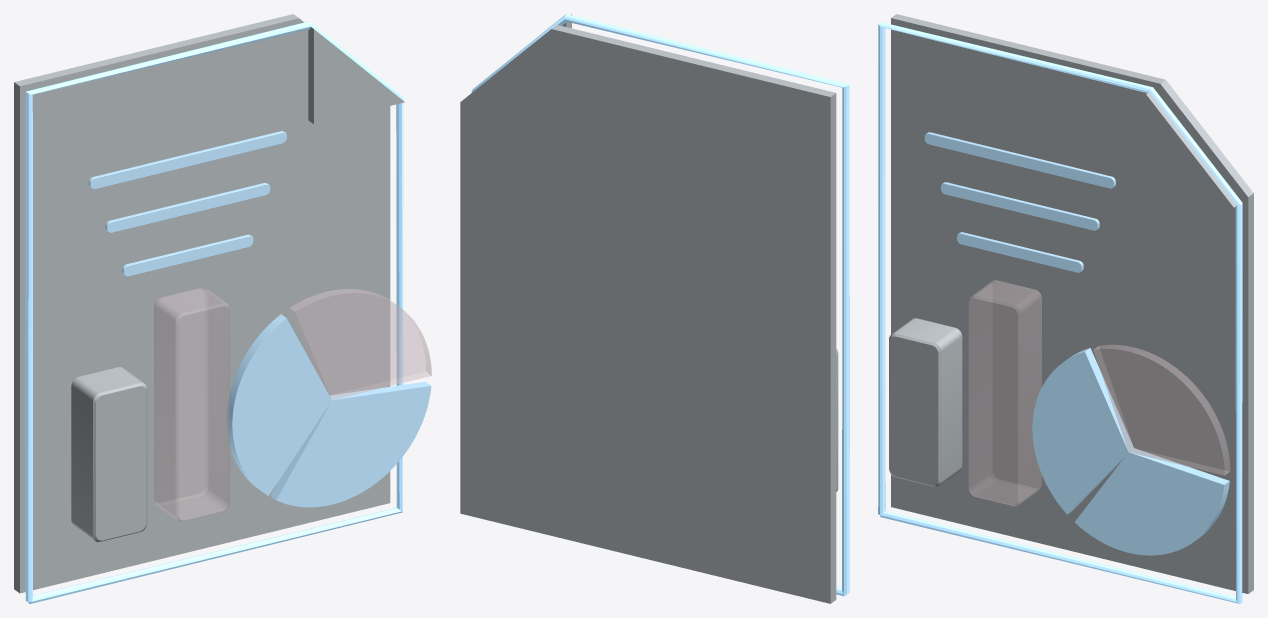
Rendered from 15-report.glb.
3 views of the same model, side by side, from view 1: azimuth 30°, elevation 25°; view 2: azimuth 150°, elevation 25°; view 3: azimuth 330°, elevation 25° (orthographic). The views are drawn at different scales.
Parts seen in each view (by area): view 1: BC thin clear technical glass, BC etched pale glass, BC subtle ruby technical glass, BC cool glass edge; view 2: BC thin clear technical glass, BC cool glass edge; view 3: BC thin clear technical glass, BC etched pale glass, BC subtle ruby technical glass, BC cool glass edge.
Boxes of the visible parts, x1,y1,x2,y2 form: BC thin clear technical glass: [14, 14, 404, 593]; BC etched pale glass: [88, 131, 431, 507]; BC subtle ruby technical glass: [154, 287, 431, 521]; BC cool glass edge: [25, 21, 403, 603]; BC thin clear technical glass: [460, 14, 838, 603]; BC cool glass edge: [471, 14, 849, 596]; BC thin clear technical glass: [889, 14, 1253, 593]; BC etched pale glass: [924, 132, 1229, 555]; BC subtle ruby technical glass: [968, 280, 1230, 506]; BC cool glass edge: [878, 22, 1242, 603].
Bounding box in the file's own units: 1.34 × 1.72 × 0.2701.
